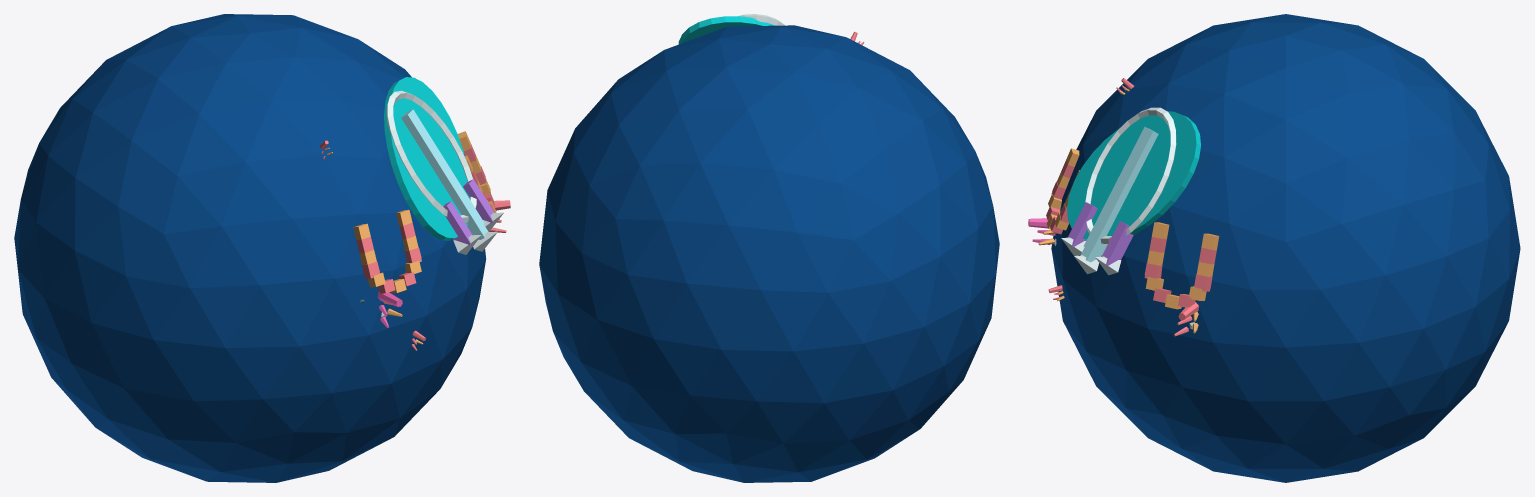
Rendered from Ocean_10.fbx.
The picture shows the model from 3 angles, left to right: view 1: azimuth 30°, elevation 25°; view 2: azimuth 150°, elevation 25°; view 3: azimuth 270°, elevation 25°; orthographic projection. The views are drawn at different scales.
Parts seen in each view (by area): view 1: Ocean_10; view 2: Ocean_10; view 3: Ocean_10.
Part boxes in pixels (left/top/right/bottom): Ocean_10: left=14, top=14, right=510, bottom=482; Ocean_10: left=539, top=14, right=999, bottom=482; Ocean_10: left=1028, top=14, right=1520, bottom=482.
Bounding box in the file's own units: 6.05 × 6 × 6.29.
1 material, 1 textured.
